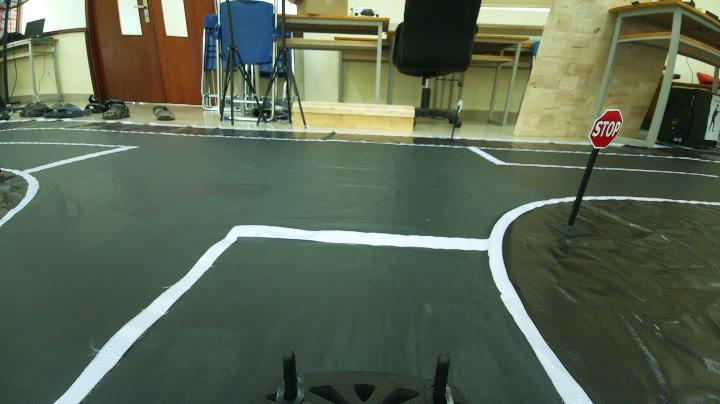stop: (586, 106, 624, 152)
